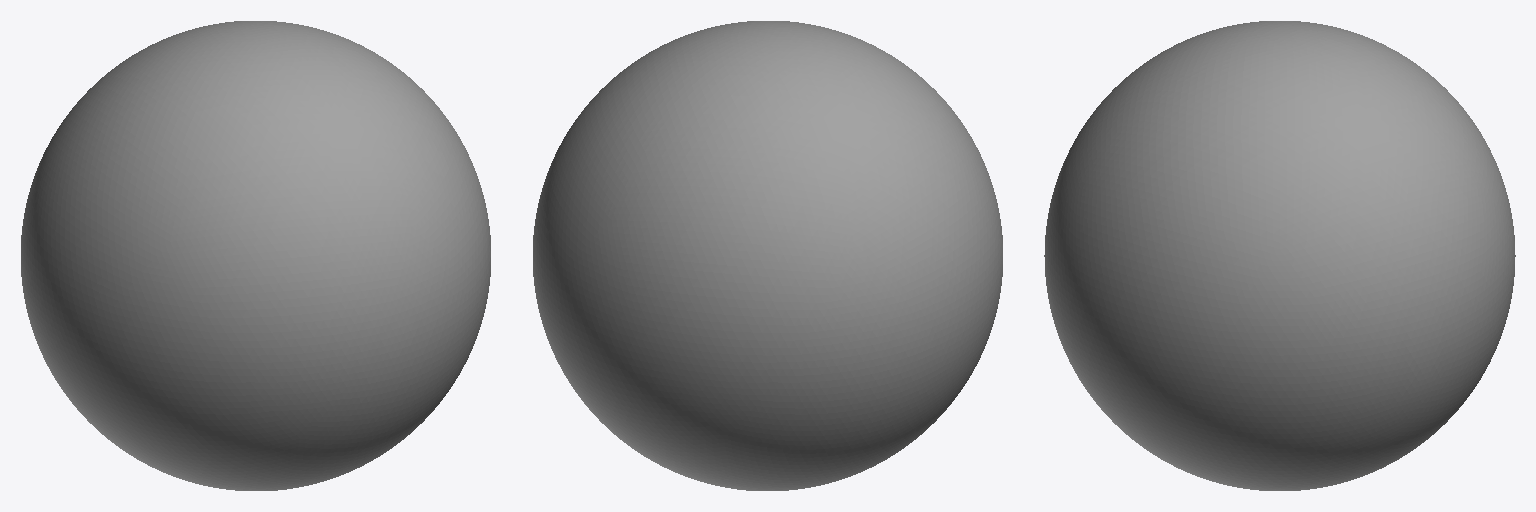
File: sun.obj
The picture shows the model from 3 angles: view 1: azimuth 30°, elevation 25°; view 2: azimuth 150°, elevation 25°; view 3: azimuth 270°, elevation 25°; orthographic projection.
Parts seen in each view (by area): view 1: Icosphere; view 2: Icosphere; view 3: Icosphere.
Boxes of the visible parts, x1,y1,x2,y2 form: Icosphere: [21, 21, 490, 490]; Icosphere: [533, 21, 1002, 490]; Icosphere: [1044, 21, 1515, 490].
Bounding box in the file's own units: 2 × 2 × 2.